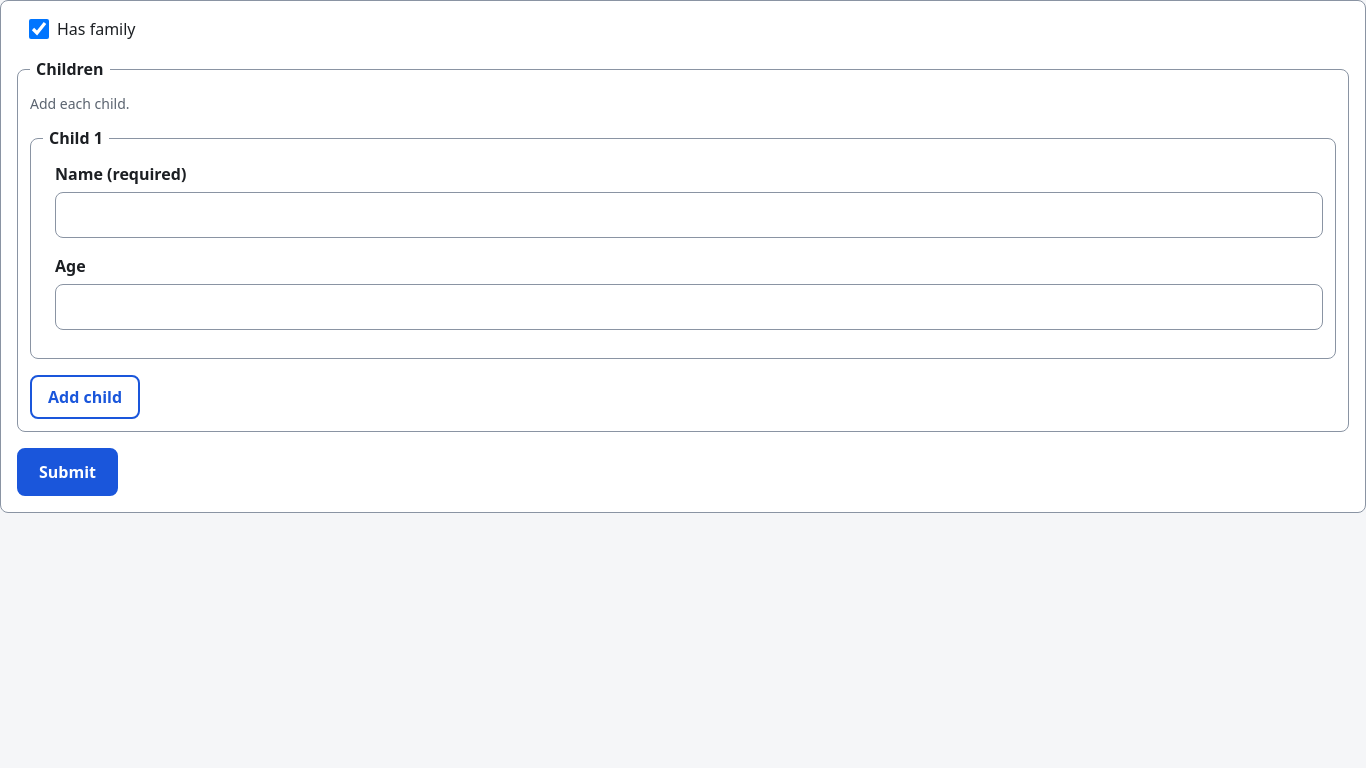
Test: Form: a group that repeats › moves focus to “Add” when no item can be removed any more
Click the button "Add child" at (85, 397), box left=30, top=375, right=140, bottom=419
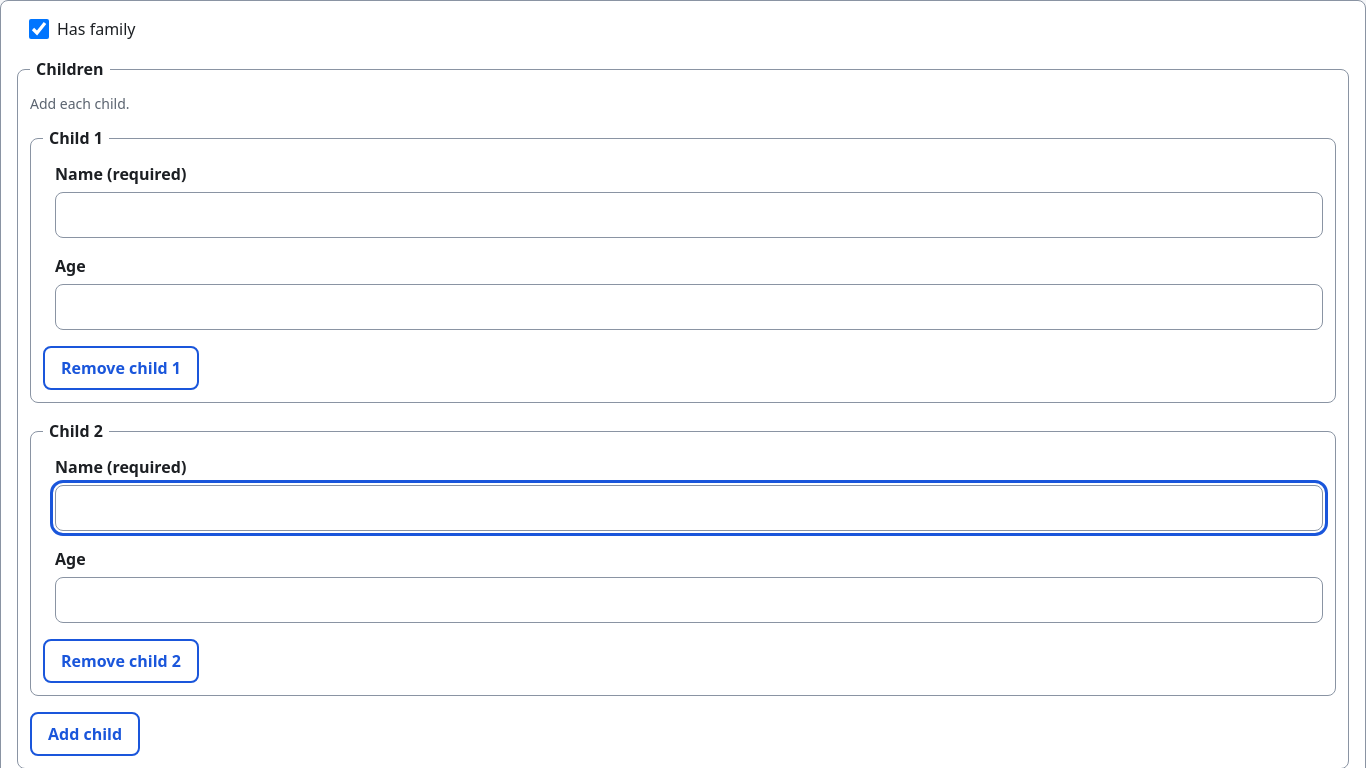
Click the button "Remove child 2" at (121, 661), box left=43, top=639, right=199, bottom=683
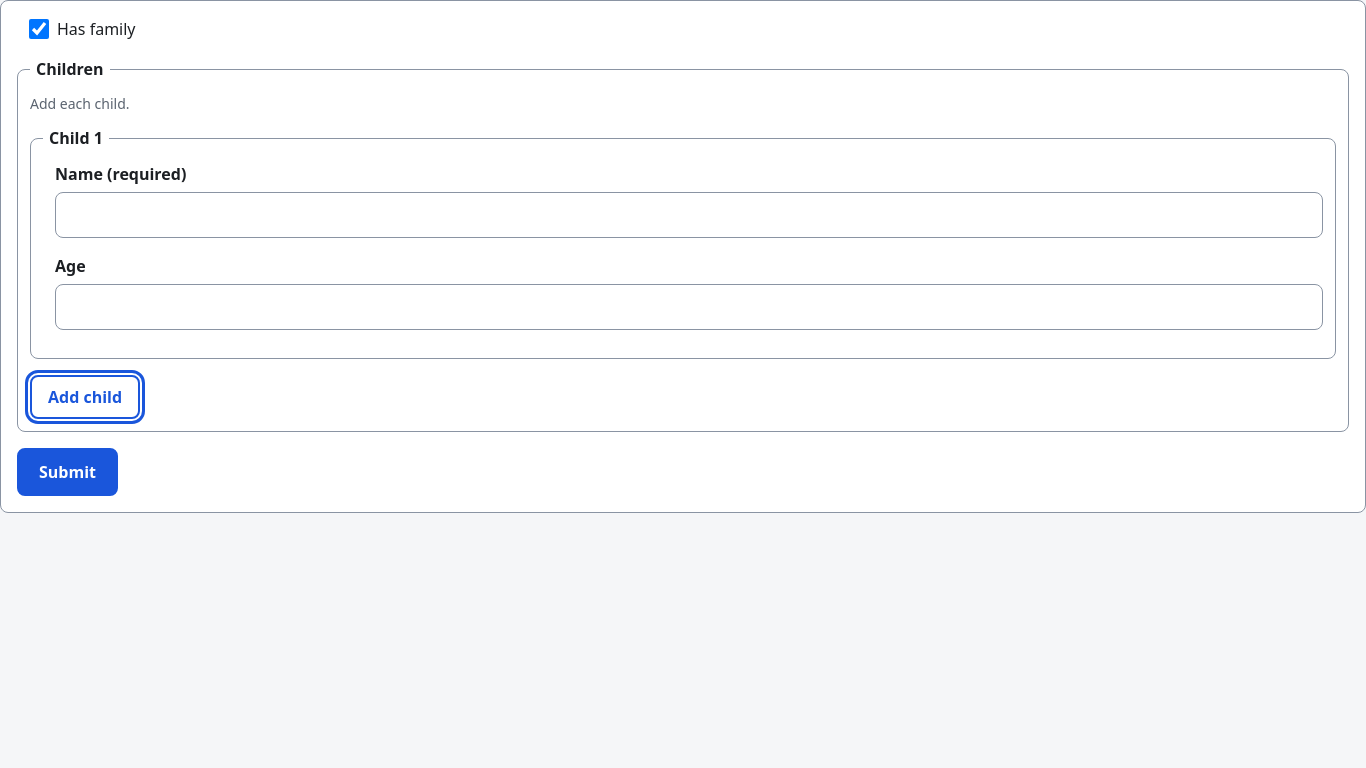
Now the button "Remove" is gone
